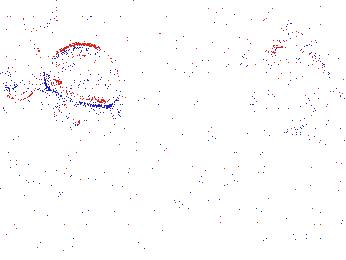moon jellyfish: (207, 65, 311, 136), (81, 47, 166, 111), (261, 46, 331, 119), (44, 43, 121, 108), (1, 29, 42, 101), (186, 53, 265, 85)
